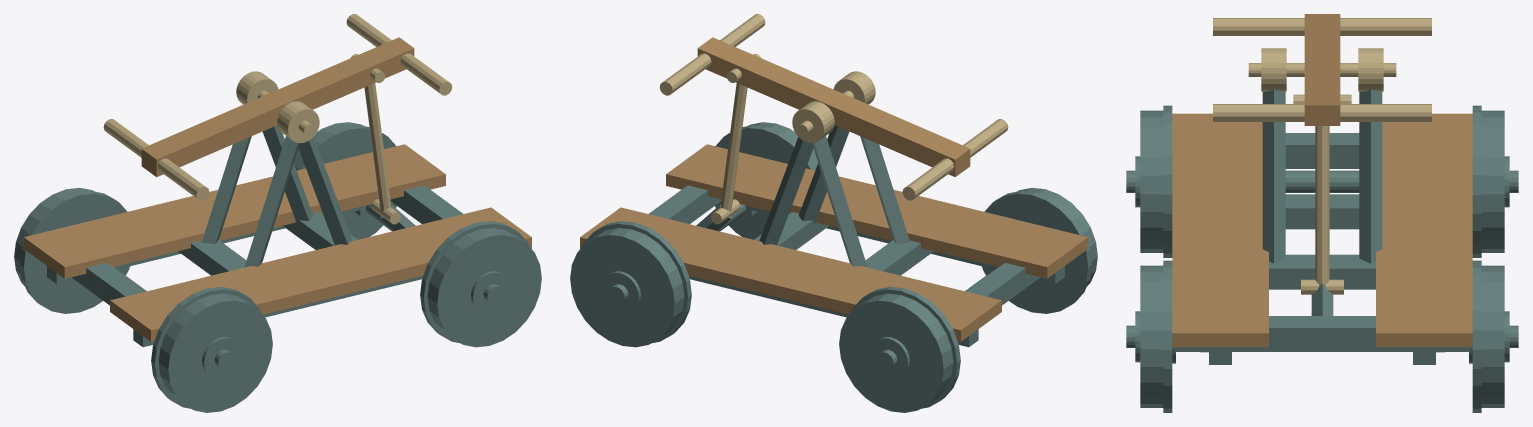
The picture shows the model from 3 angles, left to right: view 1: azimuth 30°, elevation 25°; view 2: azimuth 150°, elevation 25°; view 3: azimuth 270°, elevation 25°; orthographic projection. The views are drawn at different scales.
Parts seen in each view (by area): view 1: WholeLongStandingBoard1, WholeLongStandingBoard0, WholeFlangedRailWheel(1, 0), WholeFlangedRailWheel(0, 0), WholeLongRockingPumpBeam, WholeFlangedRailWheel(0, 1), WholeFlangedRailWheel(1, 1), WholePumpPedestalLeg(0, 0), WholePumpPedestalLeg(0, 1), WholePumpPedestalLeg(1, 0), WholeTwoPersonTransverseGrip0, WholeEndFrameCrossmember0 (+11 smaller); view 2: WholeLongStandingBoard0, WholeLongStandingBoard1, WholeFlangedRailWheel(1, 1), WholeFlangedRailWheel(0, 1), WholeLongRockingPumpBeam, WholeFlangedRailWheel(0, 0), WholeFlangedRailWheel(1, 0), WholePumpPedestalLeg(1, 0), WholePumpPedestalLeg(1, 1), WholePumpPedestalLeg(0, 0), WholeTwoPersonTransverseGrip0, WholeEndFrameCrossmember0 (+11 smaller); view 3: WholeLongStandingBoard0, WholeLongStandingBoard1, WholeFlangedRailWheel(1, 0), WholeFlangedRailWheel(1, 1), WholeFlangedRailWheel(0, 0), WholeFlangedRailWheel(0, 1), WholeEndFrameCrossmember1, WholeLongRockingPumpBeam, WholePumpPedestalLeg(0, 1), WholePumpPedestalLeg(1, 1), WholeTwoPersonTransverseGrip0, WholeTwoPersonTransverseGrip1 (+13 smaller).
Boxes of the visible parts, x1=… form: WholeLongStandingBoard1: x1=24, y1=144, x2=445, y2=278; WholeLongStandingBoard0: x1=110, y1=207, x2=531, y2=341; WholeFlangedRailWheel(1, 0): x1=420, y1=221, x2=541, y2=347; WholeFlangedRailWheel(0, 0): x1=151, y1=286, x2=272, y2=412; WholeLongRockingPumpBeam: x1=141, y1=37, x2=414, y2=177; WholeFlangedRailWheel(0, 1): x1=14, y1=187, x2=129, y2=313; WholeFlangedRailWheel(1, 1): x1=294, y1=122, x2=396, y2=239; WholePumpPedestalLeg(0, 0): x1=244, y1=136, x2=299, y2=267; WholePumpPedestalLeg(0, 1): x1=298, y1=137, x2=352, y2=245; WholePumpPedestalLeg(1, 0): x1=201, y1=136, x2=251, y2=243; WholeTwoPersonTransverseGrip0: x1=103, y1=119, x2=209, y2=200; WholeEndFrameCrossmember0: x1=72, y1=263, x2=145, y2=305; WholeLongStandingBoard0: x1=666, y1=144, x2=1087, y2=278; WholeLongStandingBoard1: x1=580, y1=207, x2=1001, y2=341; WholeFlangedRailWheel(1, 1): x1=570, y1=221, x2=691, y2=347; WholeFlangedRailWheel(0, 1): x1=839, y1=286, x2=960, y2=412; WholeLongRockingPumpBeam: x1=697, y1=37, x2=970, y2=177; WholeFlangedRailWheel(0, 0): x1=982, y1=187, x2=1097, y2=313; WholeFlangedRailWheel(1, 0): x1=715, y1=122, x2=817, y2=239; WholePumpPedestalLeg(1, 0): x1=812, y1=136, x2=867, y2=267; WholePumpPedestalLeg(1, 1): x1=759, y1=137, x2=813, y2=245; WholePumpPedestalLeg(0, 0): x1=860, y1=136, x2=910, y2=243; WholeTwoPersonTransverseGrip0: x1=902, y1=119, x2=1008, y2=200; WholeEndFrameCrossmember0: x1=966, y1=263, x2=1039, y2=305; WholeLongStandingBoard0: x1=1172, y1=113, x2=1268, y2=347; WholeLongStandingBoard1: x1=1376, y1=113, x2=1472, y2=347; WholeFlangedRailWheel(1, 0): x1=1135, y1=260, x2=1175, y2=412; WholeFlangedRailWheel(1, 1): x1=1469, y1=260, x2=1509, y2=412; WholeFlangedRailWheel(0, 0): x1=1135, y1=105, x2=1172, y2=257; WholeFlangedRailWheel(0, 1): x1=1472, y1=105, x2=1509, y2=257; WholeEndFrameCrossmember1: x1=1174, y1=316, x2=1470, y2=351; WholeLongRockingPumpBeam: x1=1304, y1=14, x2=1340, y2=125; WholePumpPedestalLeg(0, 1): x1=1262, y1=89, x2=1285, y2=263; WholePumpPedestalLeg(1, 1): x1=1359, y1=89, x2=1382, y2=263; WholeTwoPersonTransverseGrip0: x1=1213, y1=18, x2=1431, y2=35; WholeTwoPersonTransverseGrip1: x1=1213, y1=104, x2=1431, y2=121.
Size of the model in its own units: 2.04 by 1.29 by 1.54.
